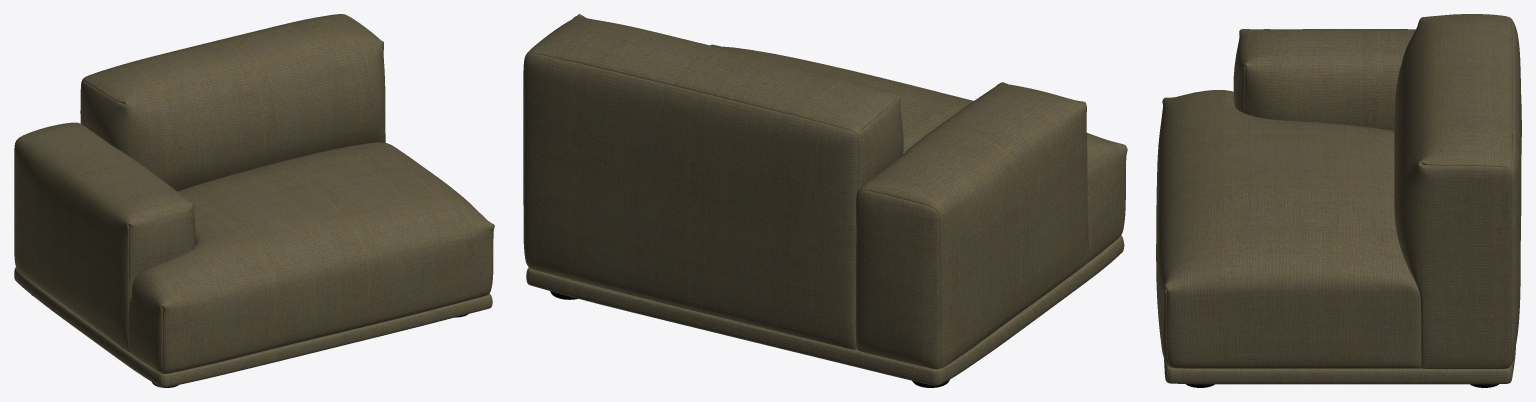
The model's file is REMIX 962.glb.
3 renders of one model, left to right at view 1: azimuth 30°, elevation 25°; view 2: azimuth 150°, elevation 25°; view 3: azimuth 270°, elevation 25°, orthographic. The views are drawn at different scales.
Visible parts, largest first — view 1: Upholstery_ARSD0; view 2: Upholstery_ARSD0; view 3: Upholstery_ARSD0.
Boxes of the visible parts, box(x1,y1,x2,y2) form: Upholstery_ARSD0: box(14, 14, 494, 387); Upholstery_ARSD0: box(523, 14, 1127, 385); Upholstery_ARSD0: box(1156, 14, 1521, 384).
Bounding box in the file's own units: 1.2 × 0.697 × 0.9539.
2 materials, 2 textured.
